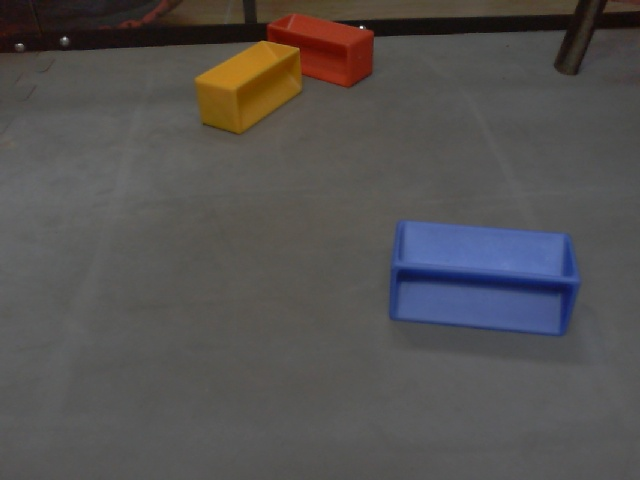BlueSample: (381, 216, 585, 338)
RedSample: (266, 14, 374, 89)
YellowSample: (193, 40, 306, 136)
